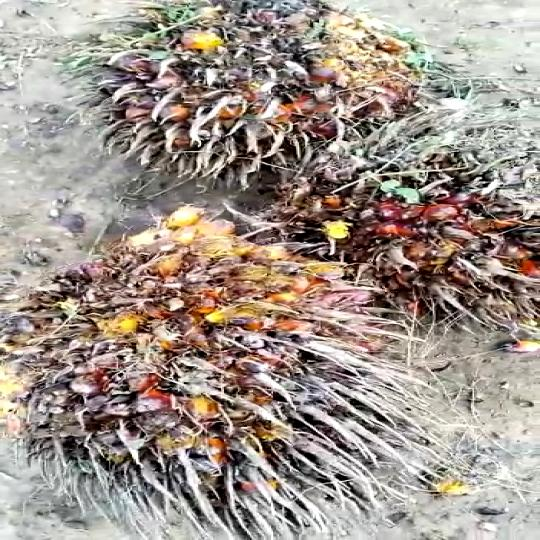terlalu masak: (0, 209, 414, 531), (57, 0, 452, 181), (265, 126, 540, 330)
